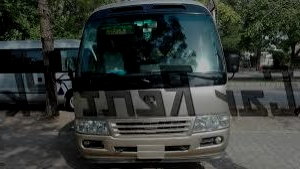bus: (69, 0, 233, 166)
